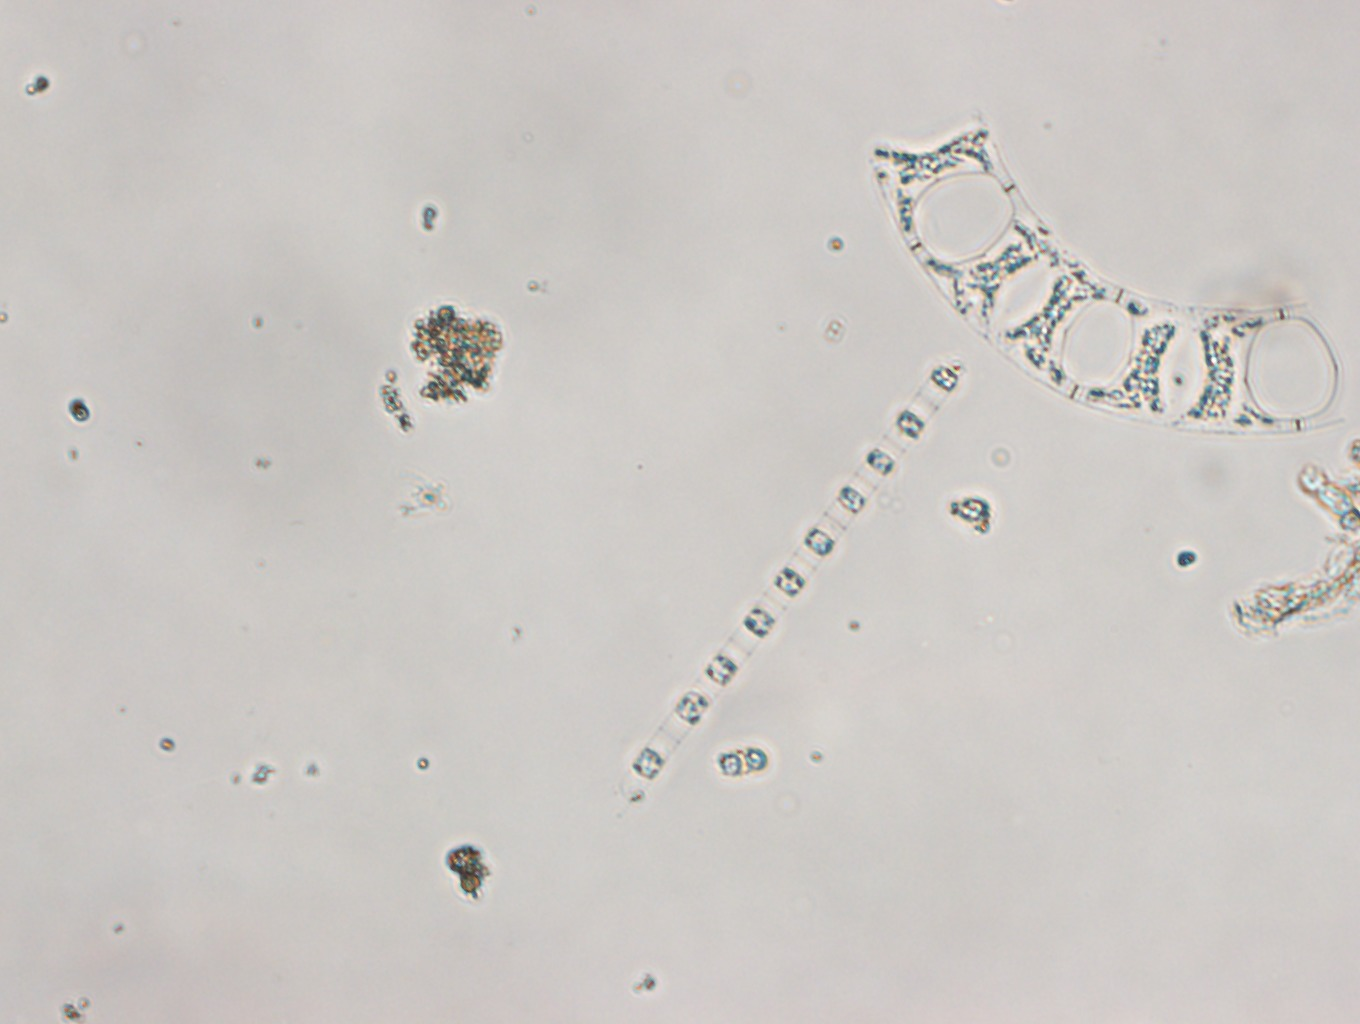eucampia: (867, 111, 1347, 436)
skeletonema: (614, 357, 963, 807)
